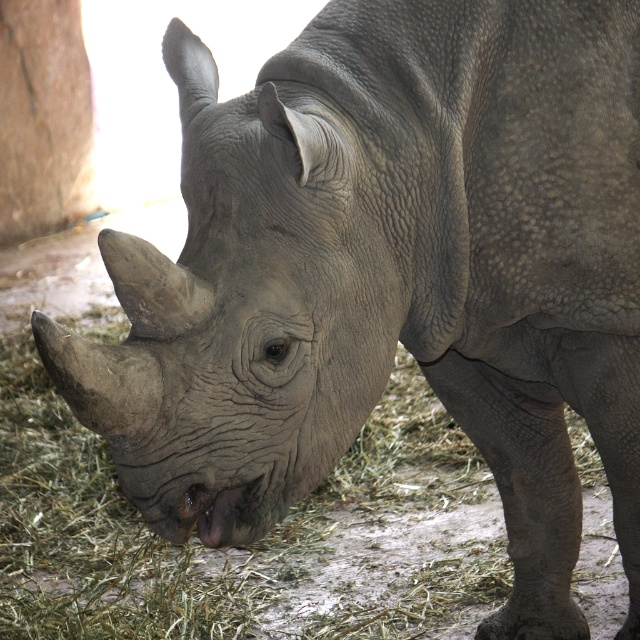Rhinoceros: (24, 0, 640, 640)
